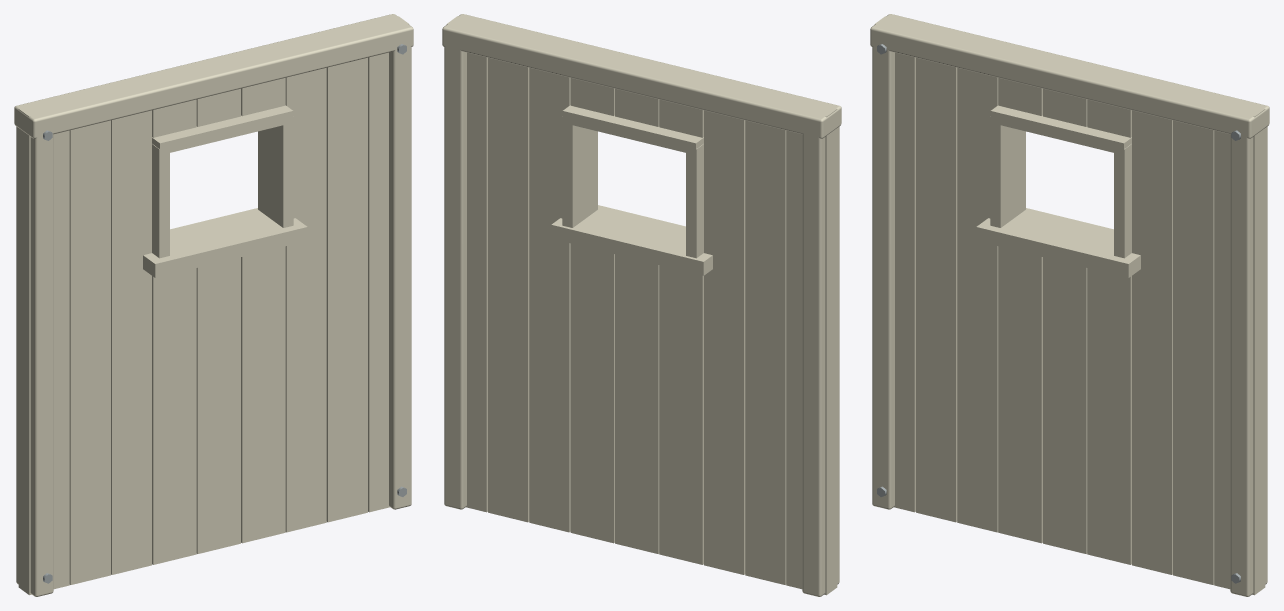
File: suburban-outbreak-interiors-room-vent-partition-1ec90fa4__19869.glb
The picture shows the model from 3 angles, left to right: view 1: azimuth 30°, elevation 25°; view 2: azimuth 150°, elevation 25°; view 3: azimuth 330°, elevation 25°; orthographic projection.
Parts seen in each view (by area): view 1: room-vent-partition; view 2: room-vent-partition; view 3: room-vent-partition.
Part boxes in pixels (x1,y1,x2,y2): room-vent-partition: [14, 14, 413, 596]; room-vent-partition: [442, 14, 841, 596]; room-vent-partition: [870, 14, 1269, 596].
Size of the model in its own units: 2 by 2.4 by 0.29.
